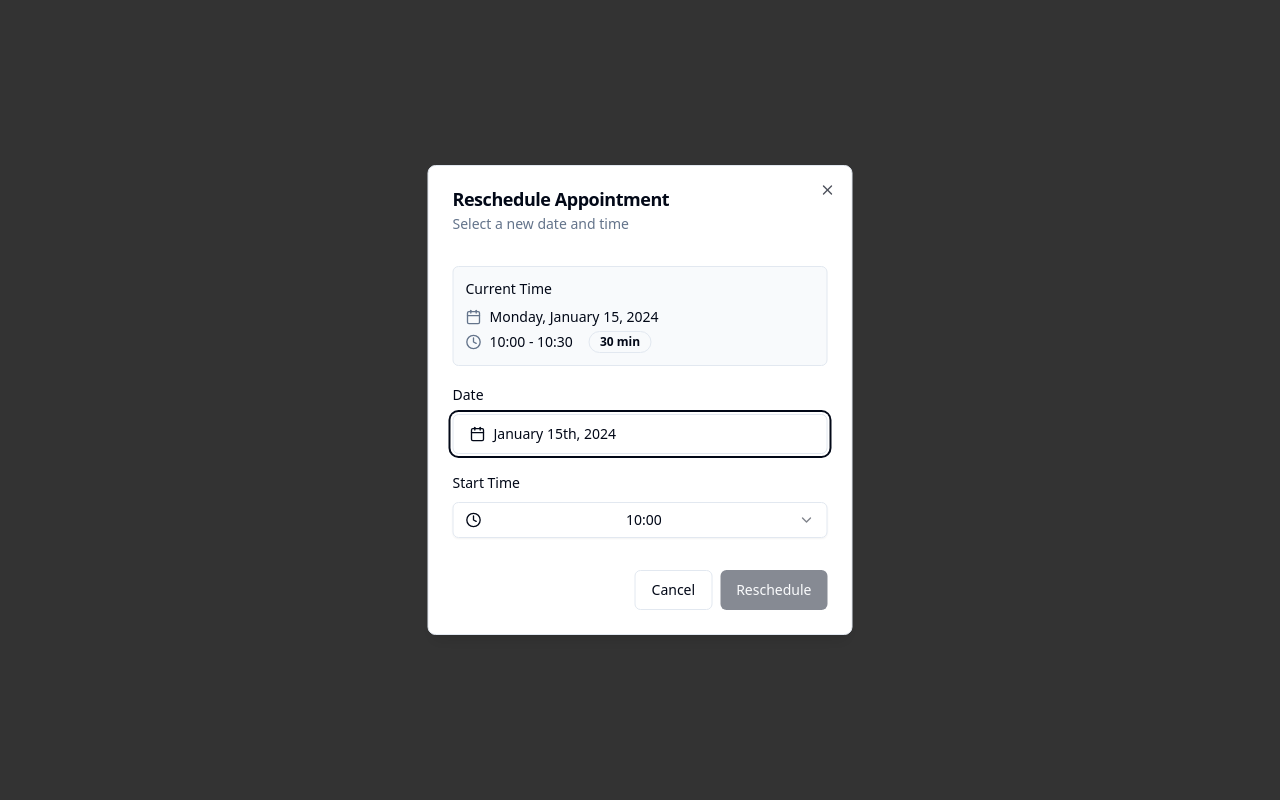
it: QuickRescheduleDialog › Date Selection › should open date picker on button click
Click the button "January 15th, 2024" at [555, 434], box [452,414,828,454]
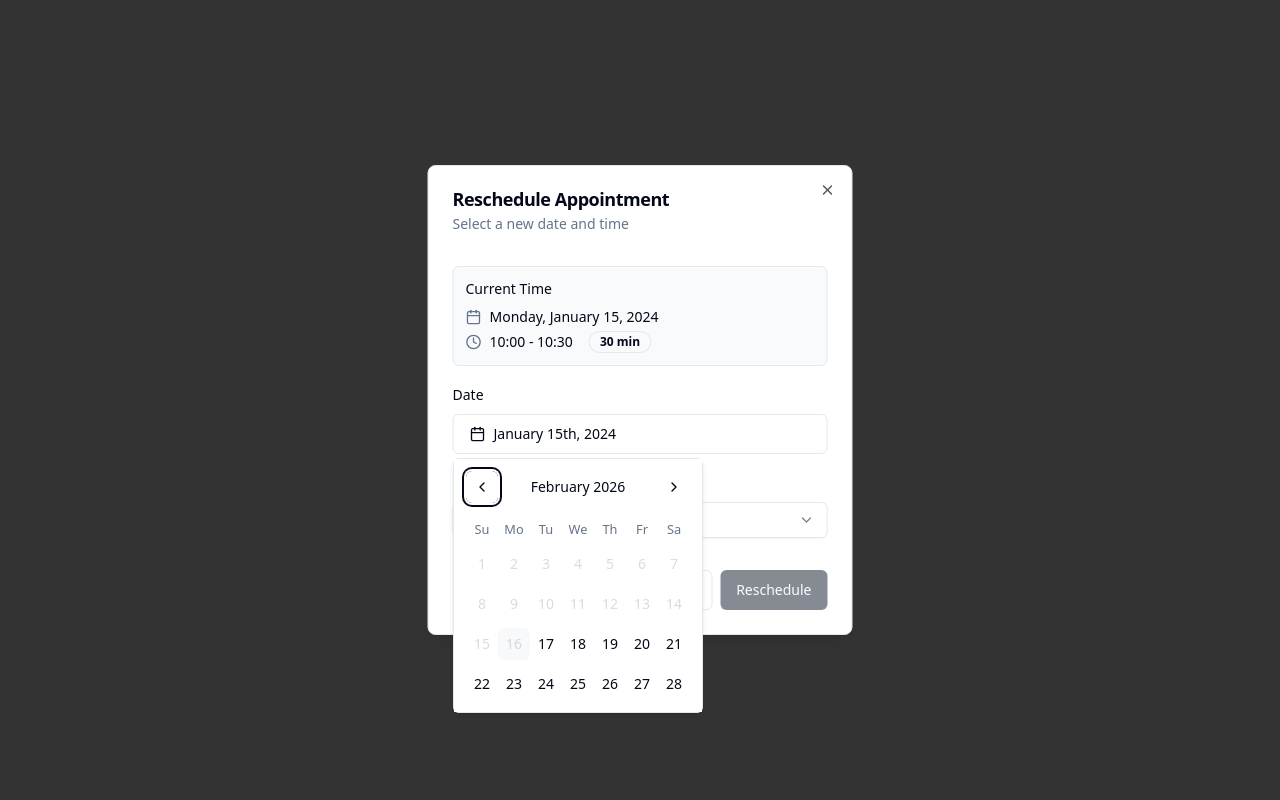
Expected: the table is shown, [466,519,690,700]
